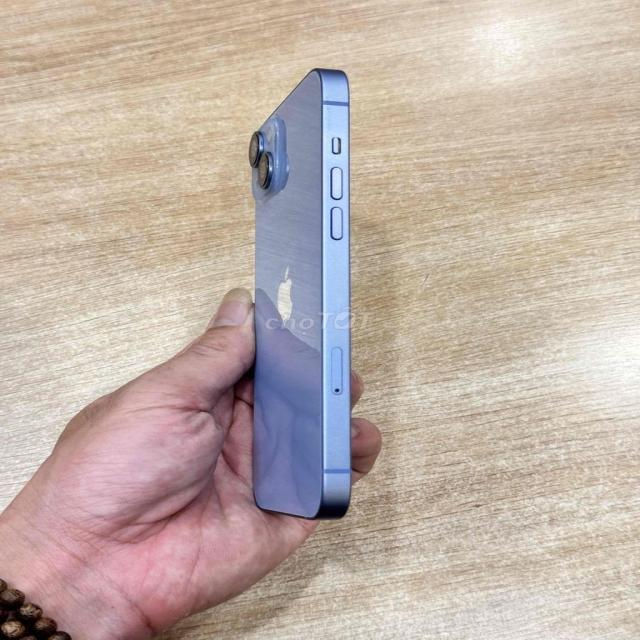gen_14: (240, 67, 364, 520)
